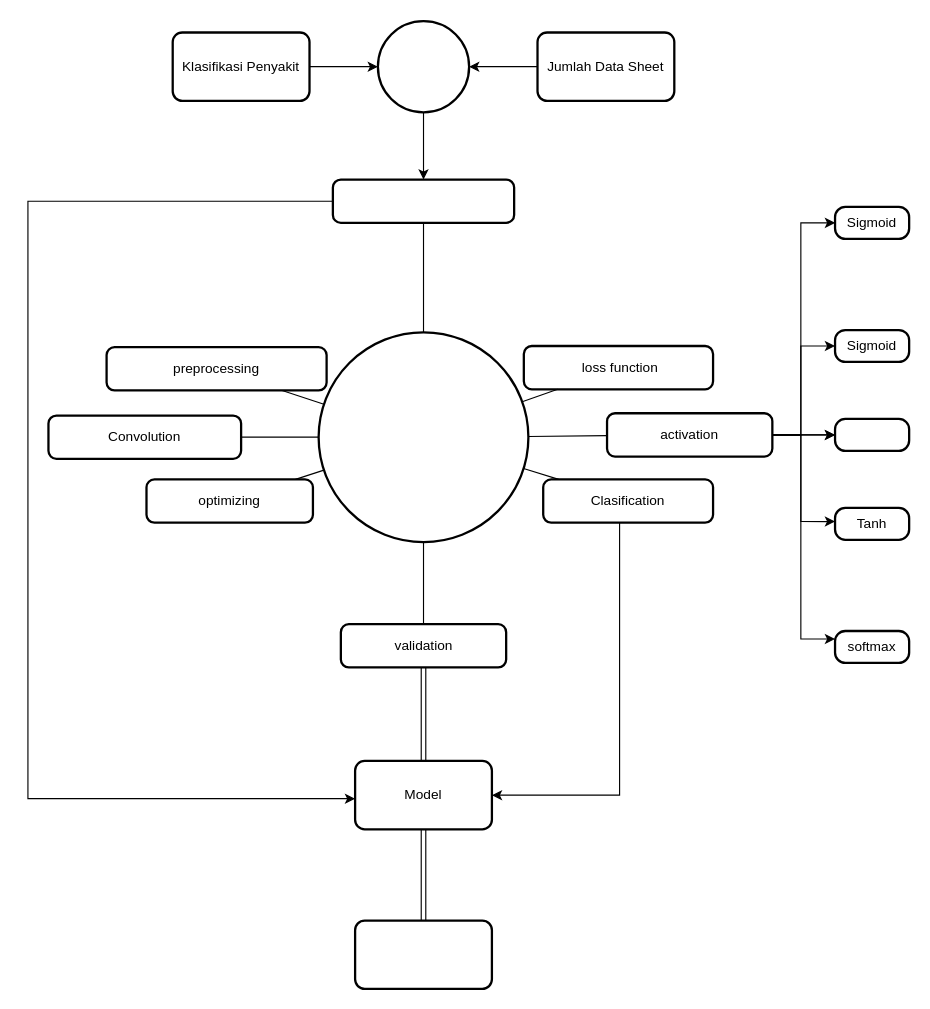
The diagram is 930 pixels wide and 1009 high, and some of its shapes have lost their labels. The shapes that lost their labels are listed below. From the top down, each one's centre as x and y in pixels, then its label:
At point (423, 66): "Rematik".
At point (423, 200): "training".
At point (423, 437): "CNN".
At point (871, 434): "RelU".
At point (422, 954): "Uji Data".
